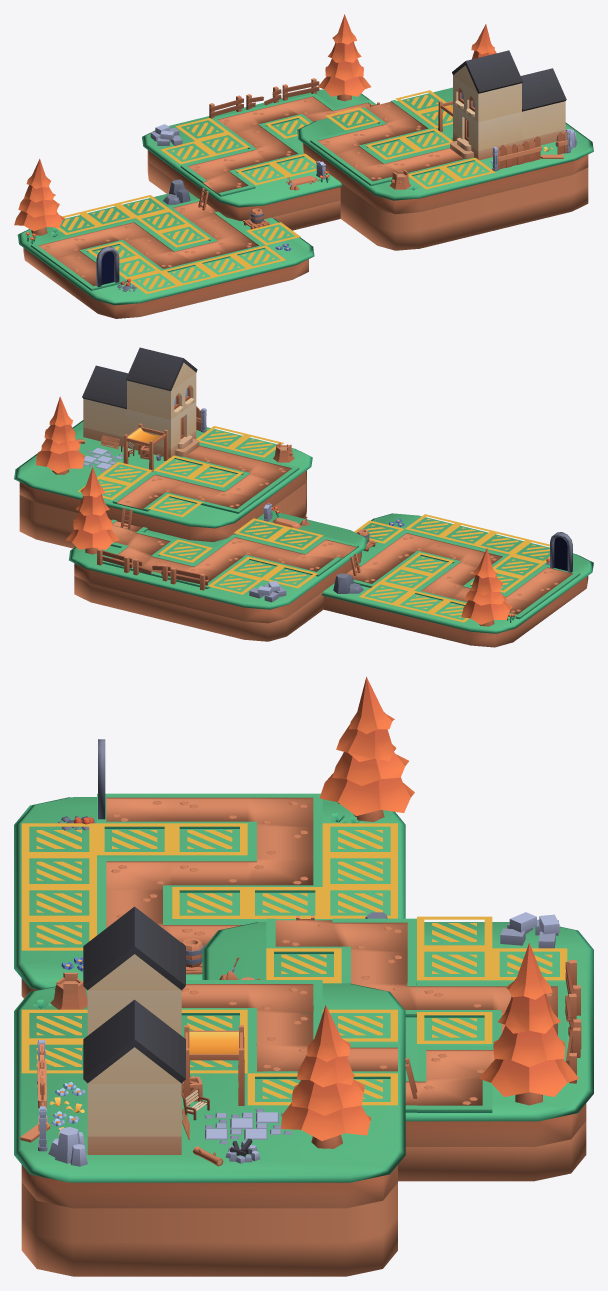
File: Level.glb
3 renders of one model, top to bottom at view 1: azimuth 30°, elevation 25°; view 2: azimuth 150°, elevation 25°; view 3: azimuth 270°, elevation 25°, orthographic. The views are drawn at different scales.
Visible parts, largest first — view 1: stage-3, stage-1, stage-2, building, stage-2-pine, stage-1-pine, path-10, path-12, path-25, path-13, path-3, path-5 (+50 smaller); view 2: stage-2, stage-3, stage-1, building, stage-2-pine, stage-3-pine, stage-1-pine, structure, path-10, path-25, path-12, path-27 (+51 smaller); view 3: stage-3, stage-2, building, stage-1, stage-2-pine, stage-1-pine, stage-3-pine, path-13, path-3, path-21, path-7, path-25 (+44 smaller).
Part boxes in pixels (bbox=[...]): stage-3: bbox=[297, 87, 593, 250]; stage-1: bbox=[17, 191, 314, 318]; stage-2: bbox=[142, 89, 369, 230]; building: bbox=[450, 50, 566, 160]; stage-2-pine: bbox=[318, 14, 370, 101]; stage-1-pine: bbox=[14, 158, 64, 235]; path-10: bbox=[187, 213, 245, 240]; path-12: bbox=[200, 172, 255, 196]; path-25: bbox=[310, 131, 364, 156]; path-13: bbox=[180, 157, 235, 181]; path-3: bbox=[31, 236, 85, 260]; path-5: bbox=[101, 219, 155, 242]; stage-2: bbox=[69, 511, 367, 641]; stage-3: bbox=[14, 420, 312, 548]; stage-1: bbox=[321, 513, 593, 647]; building: bbox=[82, 347, 199, 458]; stage-2-pine: bbox=[66, 467, 119, 554]; stage-3-pine: bbox=[36, 396, 84, 474]; stage-1-pine: bbox=[461, 548, 512, 626]; structure: bbox=[123, 423, 168, 471]; path-10: bbox=[359, 545, 417, 571]; path-25: bbox=[203, 488, 258, 513]; path-12: bbox=[304, 536, 358, 561]; path-27: bbox=[244, 459, 299, 483]; stage-3: bbox=[14, 983, 405, 1276]; stage-2: bbox=[202, 922, 593, 1181]; building: bbox=[83, 906, 185, 1154]; stage-1: bbox=[14, 797, 405, 998]; stage-2-pine: bbox=[479, 943, 579, 1105]; stage-1-pine: bbox=[319, 676, 414, 821]; stage-3-pine: bbox=[281, 1005, 371, 1148]; path-13: bbox=[341, 918, 416, 952]; path-3: bbox=[247, 793, 322, 827]; path-21: bbox=[417, 1077, 492, 1112]; path-7: bbox=[97, 857, 172, 890]; path-25: bbox=[247, 980, 322, 1013].
Size of the model in its own units: 28.49 by 8.05 by 15.41.
12 materials, 11 textured.
